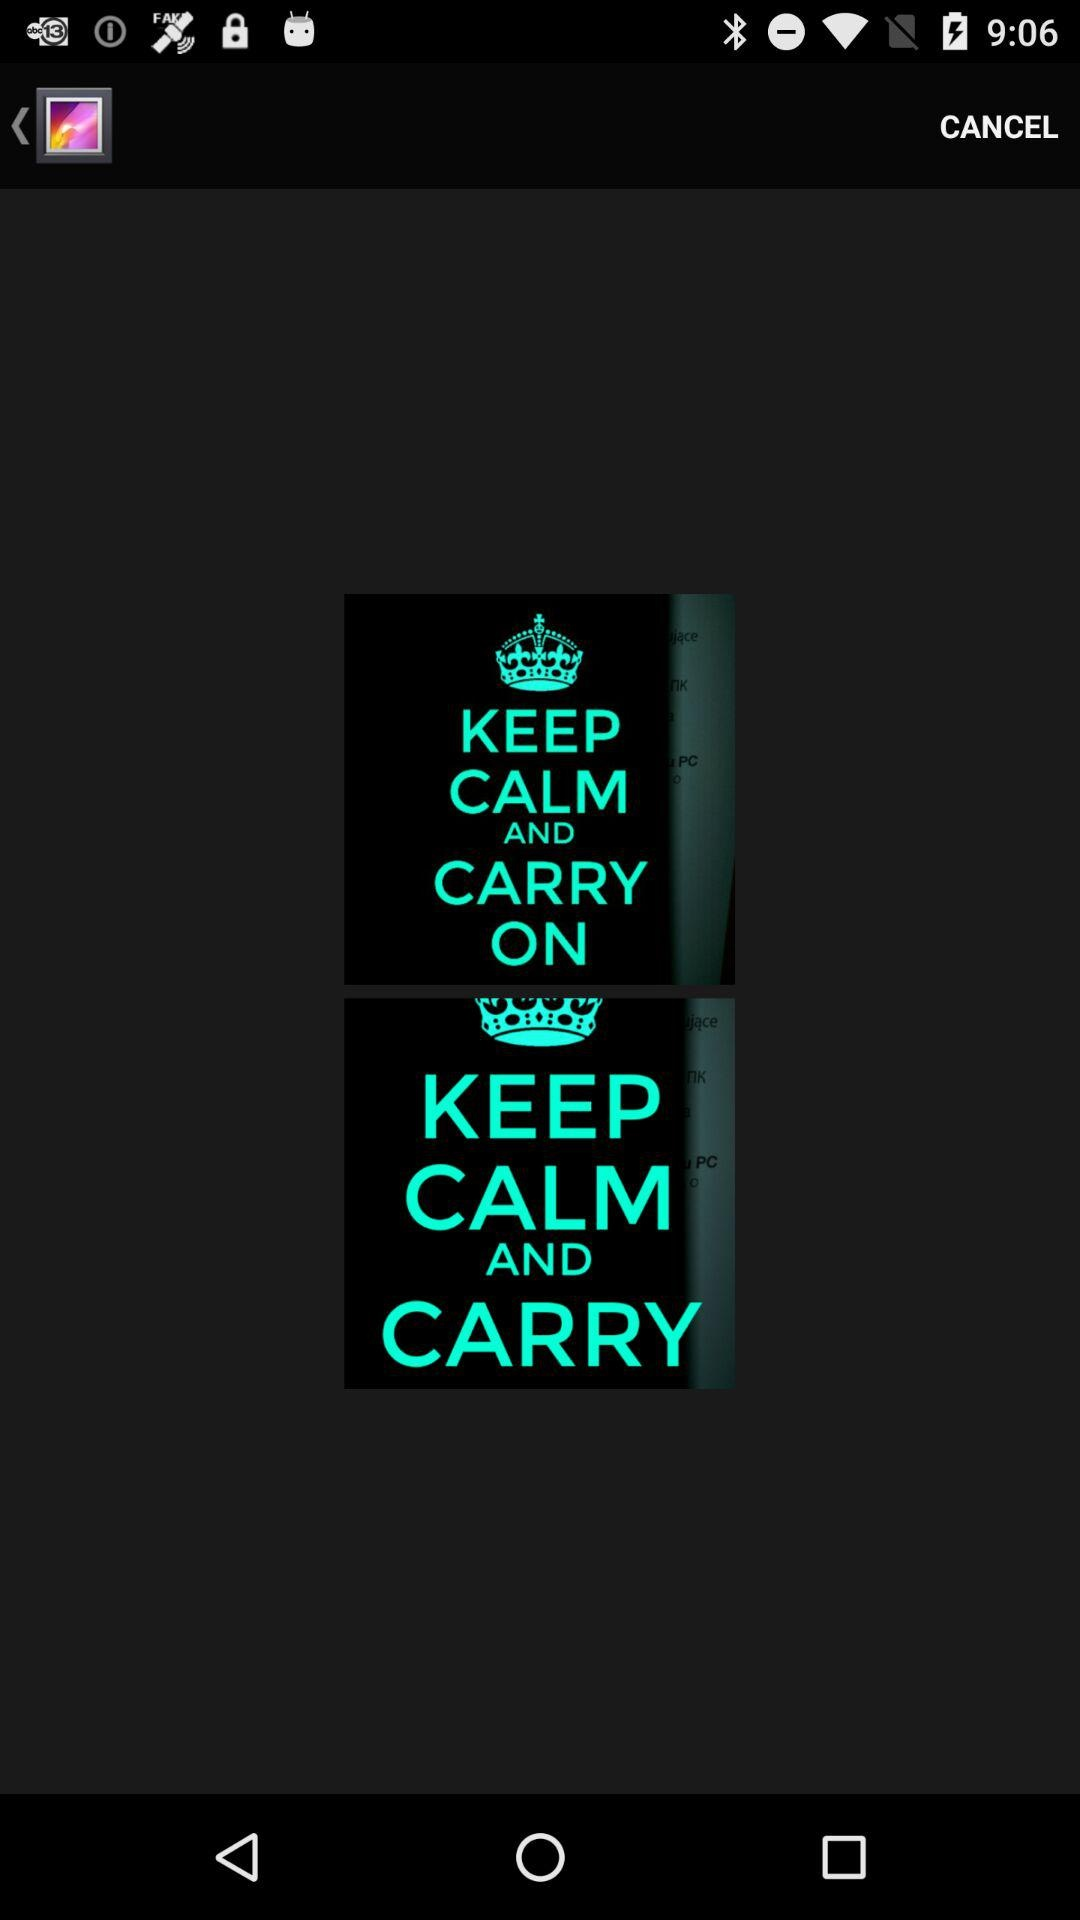ImageView: (919, 63, 1075, 189), (32, 84, 116, 167), (5, 105, 42, 146)
